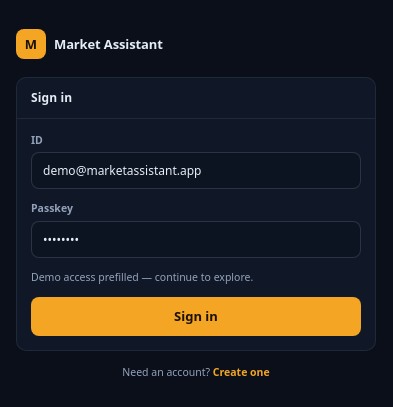
Test case: auth routing › shows the Supabase error when signIn rejects
Replace the text in the field labelled "ID" with "a@b.com" at (196, 171), box x1=31 y1=152 x2=361 y2=189
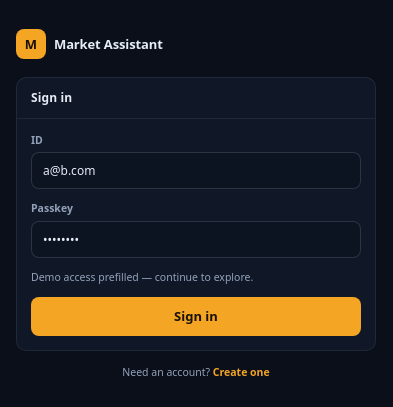
Type "wrong" into the password field labelled "Passkey" at (196, 239), box x1=31 y1=220 x2=361 y2=258
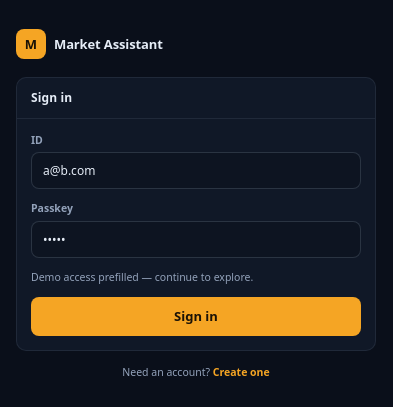
Click the button "Sign in" at (196, 316), box x1=31 y1=297 x2=361 y2=336
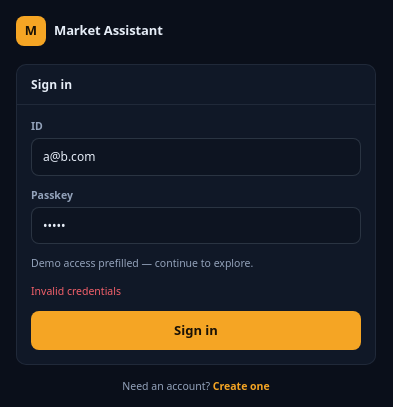
Expected: the message reads "Invalid credentials", x1=31 y1=284 x2=121 y2=298
